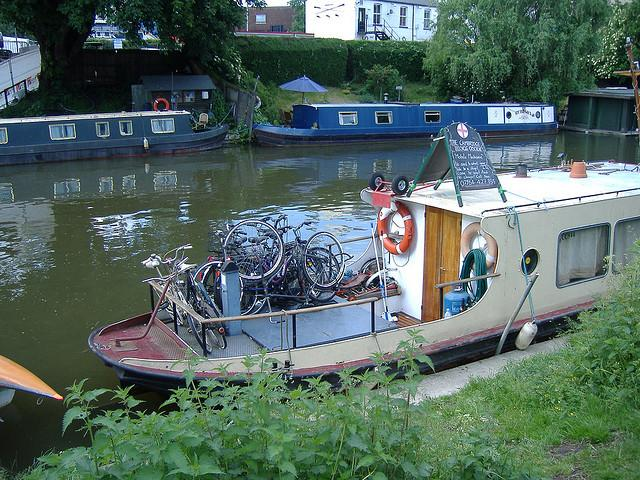otherboat: (69, 120, 640, 389), (243, 92, 562, 151), (1, 100, 226, 171)
